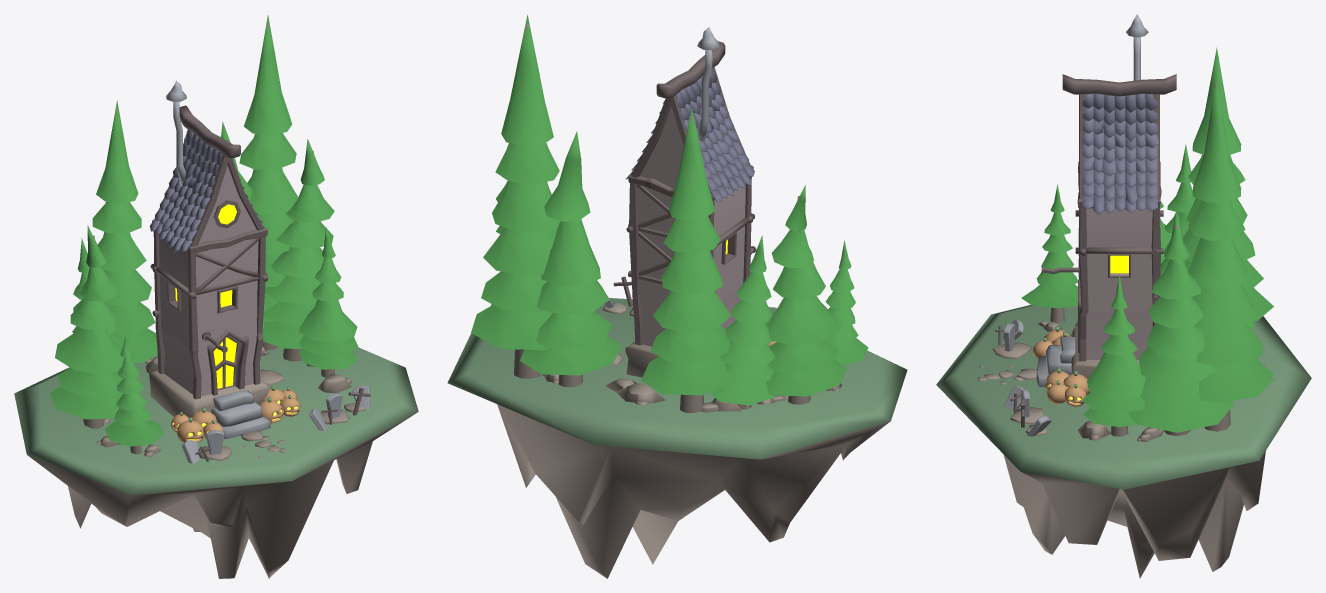
File: halloween_haunted_house.glb
3 views of the same model, side by side, from view 1: azimuth 30°, elevation 25°; view 2: azimuth 150°, elevation 25°; view 3: azimuth 270°, elevation 25° (orthographic). The views are drawn at different scales.
Parts seen in each view (by area): view 1: Object_13, Object_2, Object_3, Object_15, Object_7, Object_12, Object_11, Object_6, Object_8, Object_5, Object_4, Object_14; view 2: Object_13, Object_2, Object_3, Object_7, Object_15, Object_11, Object_12, Object_14, Object_4; view 3: Object_13, Object_2, Object_3, Object_11, Object_7, Object_15, Object_12, Object_6, Object_8, Object_14, Object_4.
Boxes of the visible parts, <box> form: Object_13: <box>50,15,358,446</box>; Object_2: <box>14,347,418,495</box>; Object_3: <box>27,413,415,578</box>; Object_15: <box>150,105,370,461</box>; Object_7: <box>159,165,258,396</box>; Object_12: <box>96,346,365,460</box>; Object_11: <box>149,131,264,252</box>; Object_6: <box>181,385,370,463</box>; Object_8: <box>171,389,300,442</box>; Object_5: <box>175,204,236,388</box>; Object_4: <box>166,80,186,186</box>; Object_14: <box>83,23,334,454</box>; Object_13: <box>471,14,868,405</box>; Object_2: <box>447,298,907,459</box>; Object_3: <box>497,404,890,578</box>; Object_7: <box>637,106,745,346</box>; Object_15: <box>613,41,756,345</box>; Object_11: <box>626,71,754,201</box>; Object_12: <box>541,302,842,412</box>; Object_14: <box>514,24,846,412</box>; Object_4: <box>697,27,720,142</box>; Object_13: <box>1021,47,1273,432</box>; Object_2: <box>936,305,1311,489</box>; Object_3: <box>1004,451,1265,578</box>; Object_11: <box>1082,94,1158,214</box>; Object_7: <box>1086,120,1152,359</box>; Object_15: <box>995,74,1176,427</box>; Object_12: <box>977,321,1162,441</box>; Object_6: <box>1002,319,1075,436</box>; Object_8: <box>1032,329,1088,406</box>; Object_14: <box>1050,56,1230,436</box>; Object_4: <box>1126,14,1148,80</box>.
Bounding box in the file's own units: 53.07 × 68.16 × 42.46.
